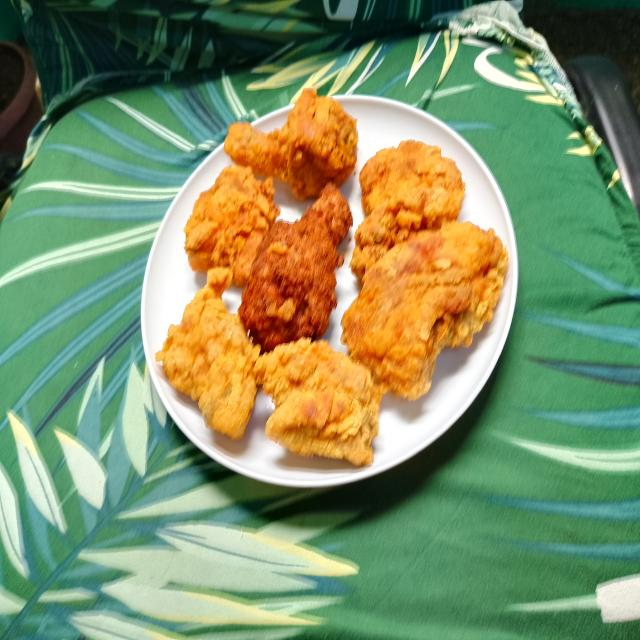Chicken -Fried Chicken-: (345, 211, 516, 402), (238, 182, 355, 354), (251, 337, 385, 478), (162, 270, 260, 453), (348, 132, 463, 284), (217, 87, 366, 204), (180, 156, 268, 295)
